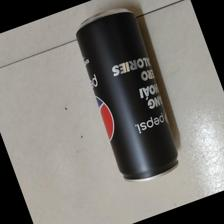Pepsi: (75, 6, 180, 185)
